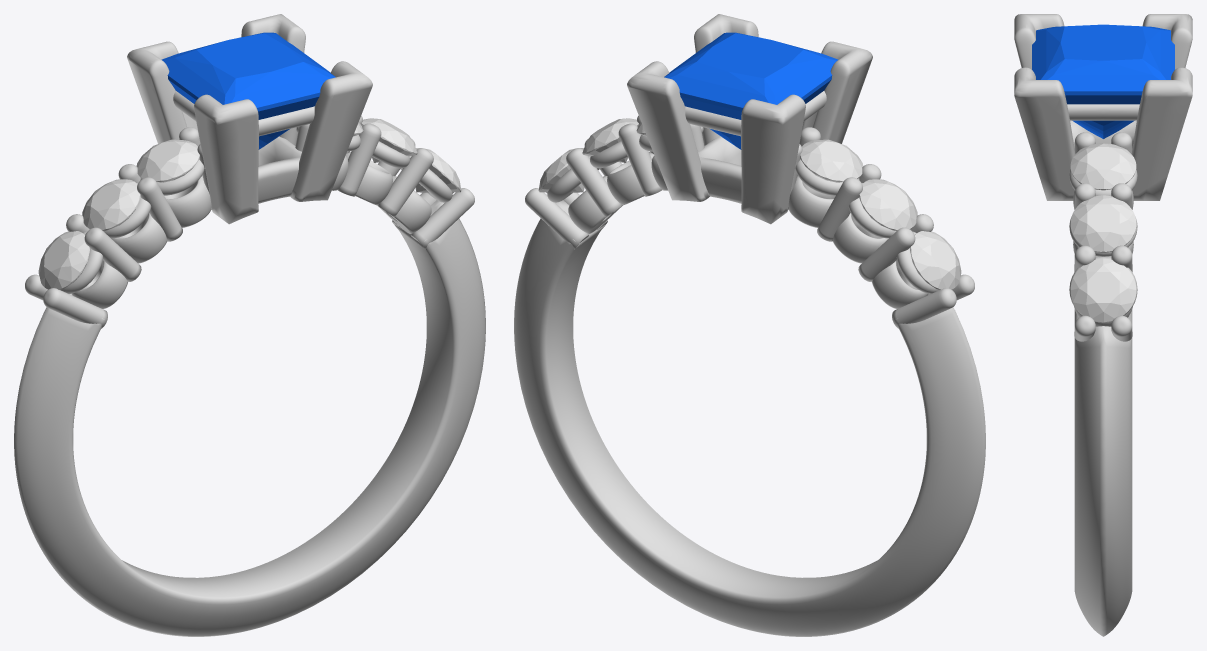
File: bluesapphire-princess-platinum-protectededges4prongs-knifeedge-7stone.glb
The picture shows the model from 3 angles, left to right: view 1: azimuth 30°, elevation 25°; view 2: azimuth 150°, elevation 25°; view 3: azimuth 270°, elevation 25°; orthographic projection.
Parts seen in each view (by area): view 1: metal, stone, side, side.001, side.002, side.004, side.005; view 2: metal, stone, side, side.001, side.002, side.004, side.005; view 3: metal, stone, side.005, side.004, side.003.
Boxes of the visible parts, box(x1,y1,x2,y2) form: metal: box(14, 14, 485, 636); stone: box(161, 32, 335, 149); side: box(38, 231, 89, 289); side.001: box(82, 179, 140, 230); side.002: box(136, 139, 199, 182); side.004: box(361, 118, 417, 162); side.005: box(415, 148, 461, 192); metal: box(514, 14, 985, 636); stone: box(664, 32, 838, 149); side: box(910, 231, 961, 289); side.001: box(859, 179, 917, 230); side.002: box(800, 139, 863, 182); side.004: box(582, 118, 638, 162); side.005: box(538, 148, 584, 192); metal: box(1014, 14, 1192, 636); stone: box(1032, 24, 1174, 138); side.005: box(1070, 258, 1136, 322); side.004: box(1070, 195, 1136, 252); side.003: box(1070, 143, 1136, 190).
Size of the model in its own units: 20.5 by 23.85 by 6.77.
